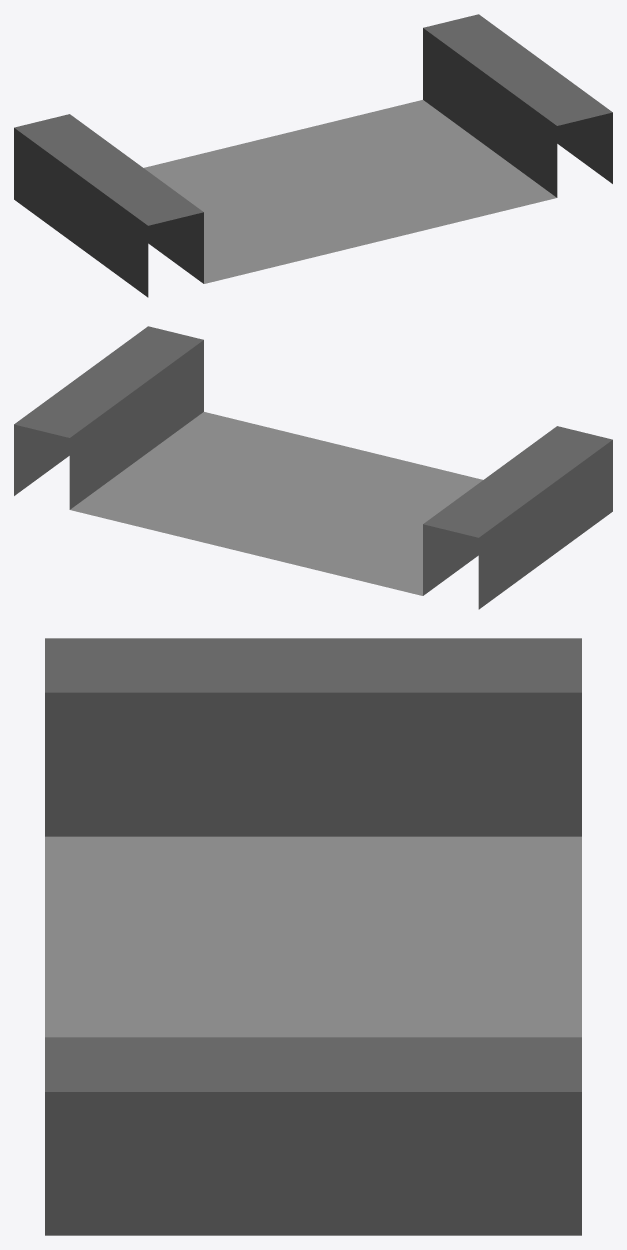
File: Stairs_1_3_1.FBX
3 views of the same model, one above another, from view 1: azimuth 30°, elevation 25°; view 2: azimuth 150°, elevation 25°; view 3: azimuth 270°, elevation 25° (orthographic). The views are drawn at different scales.
Parts seen in each view (by area): view 1: Stairs_1_3_1; view 2: Stairs_1_3_1; view 3: Stairs_1_3_1.
Part boxes in pixels (box(x1,y1,x2,y2)): Stairs_1_3_1: box(14, 14, 612, 297); Stairs_1_3_1: box(14, 326, 612, 609); Stairs_1_3_1: box(45, 638, 581, 1235).
Bounding box in the file's own units: 160 × 23.62 × 79.89.
Materials: 1 (1 with a texture image).
